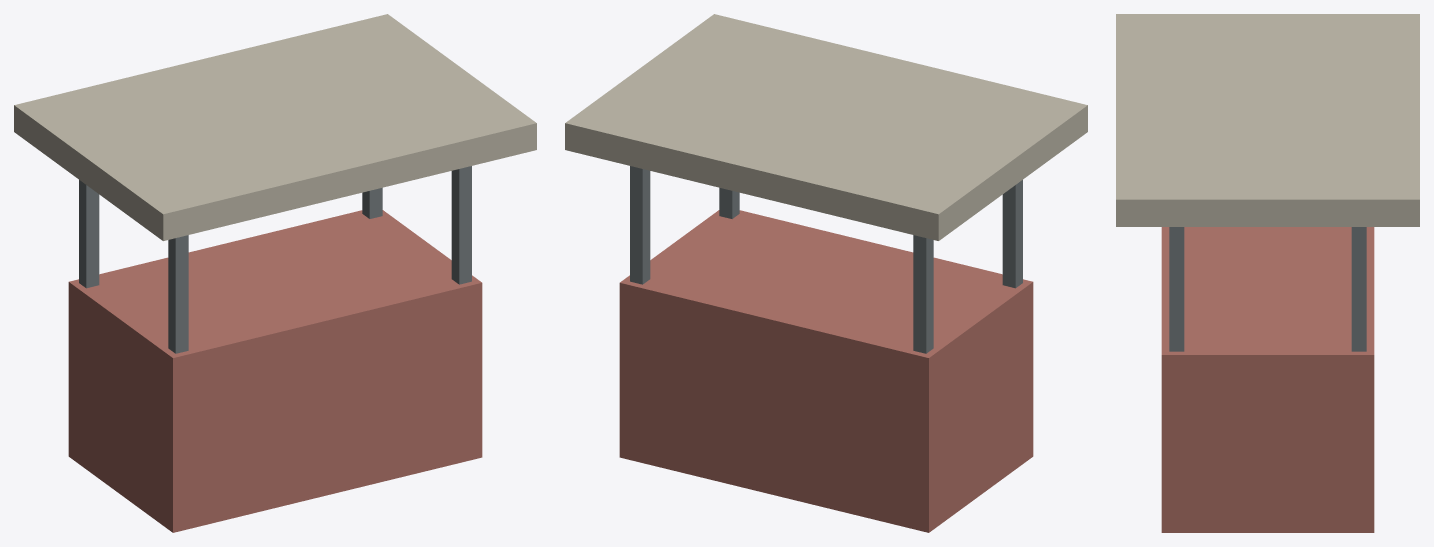
The model's file is iz2_district_fruit_cart.glb.
3 renders of one model, left to right at view 1: azimuth 30°, elevation 25°; view 2: azimuth 150°, elevation 25°; view 3: azimuth 270°, elevation 25°, orthographic.
Parts seen in each view (by area): view 1: body; view 2: body; view 3: body.
Boxes of the visible parts, bbox=[...] form: body: bbox=[14, 14, 536, 532]; body: bbox=[565, 14, 1087, 532]; body: bbox=[1116, 14, 1419, 532].
Bounding box in the file's own units: 1.43 × 1.26 × 0.99.
